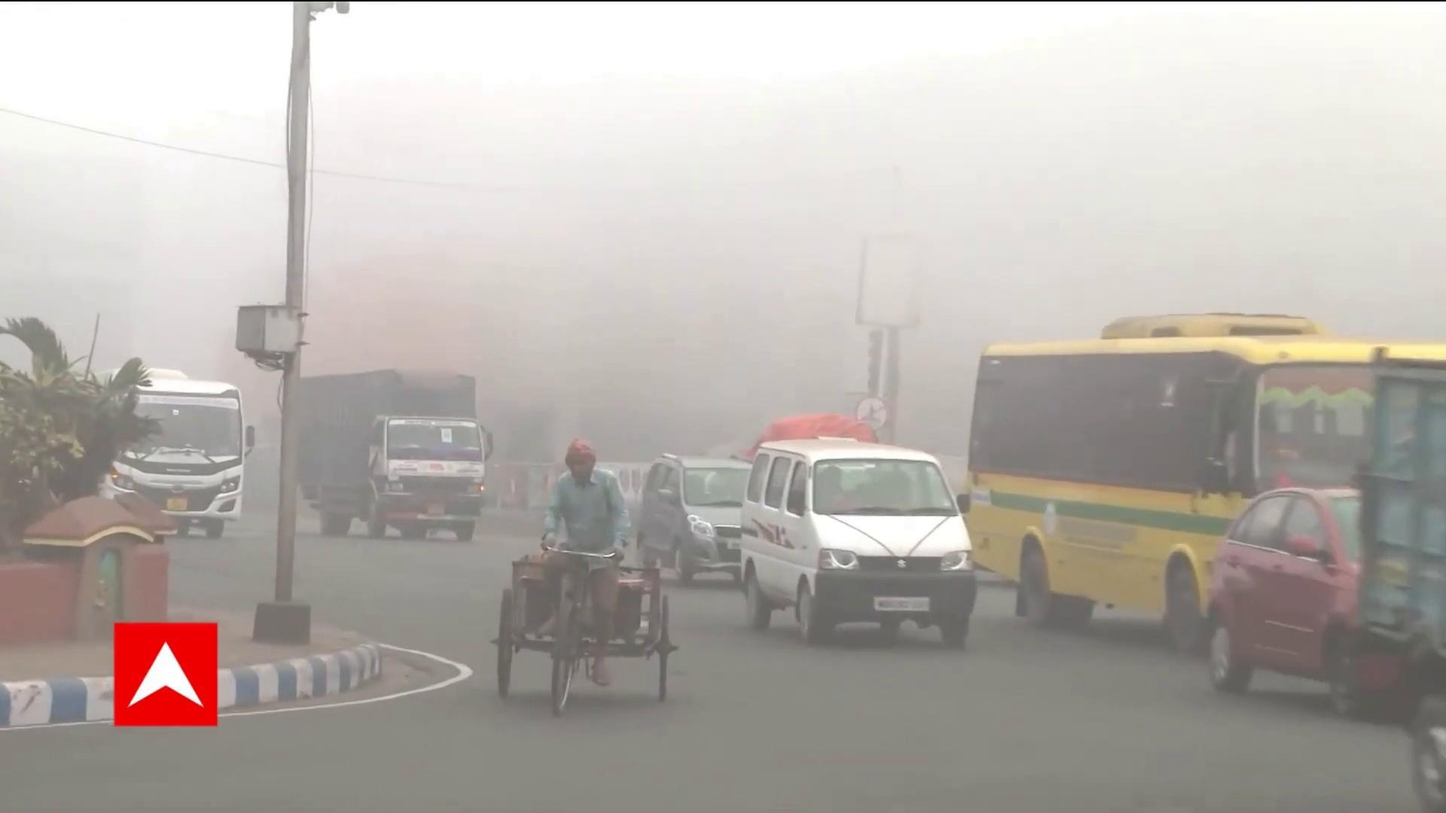Bus: (968, 306, 1446, 647), (107, 358, 253, 531)
Car: (739, 437, 979, 646), (636, 449, 763, 580)
Truck: (302, 371, 490, 540)
